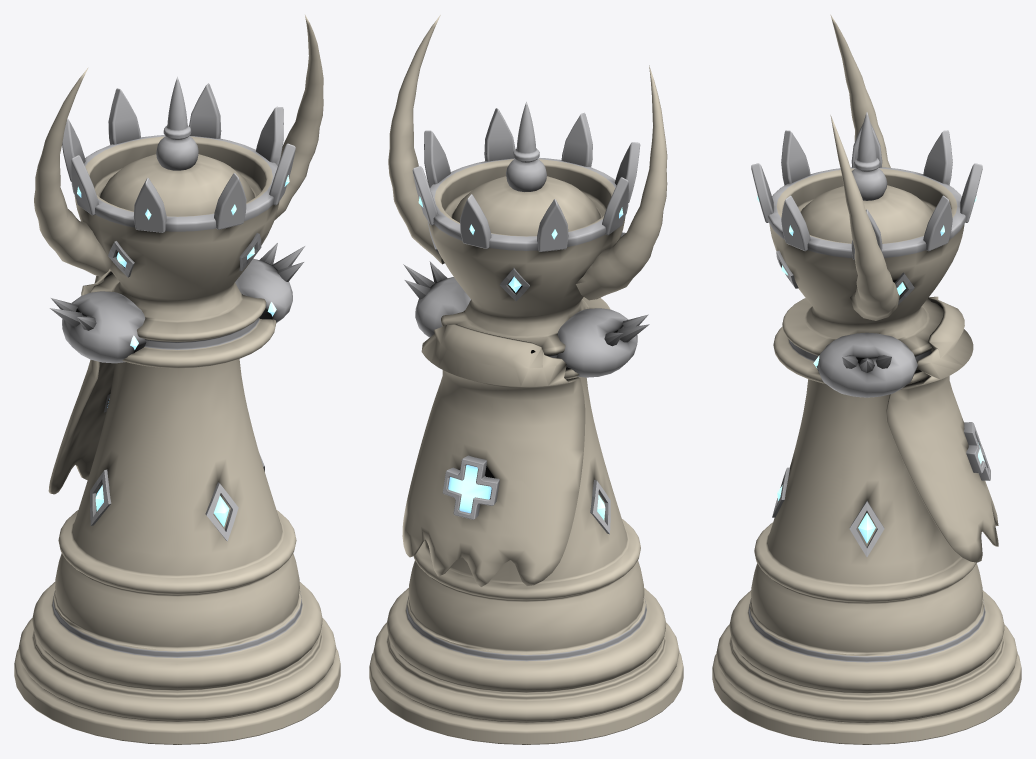
The model's file is conqueror.glb.
3 views of the same model, side by side, from view 1: azimuth 30°, elevation 25°; view 2: azimuth 150°, elevation 25°; view 3: azimuth 270°, elevation 25° (orthographic). The views are drawn at different scales.
Parts seen in each view (by area): view 1: conqueror; view 2: conqueror; view 3: conqueror.
Part boxes in pixels (x1,y1,x2,y2): conqueror: [14, 15, 340, 744]; conqueror: [369, 15, 683, 744]; conqueror: [712, 14, 1021, 744].
Size of the model in its own units: 0.7637 by 1.67 by 0.76.
